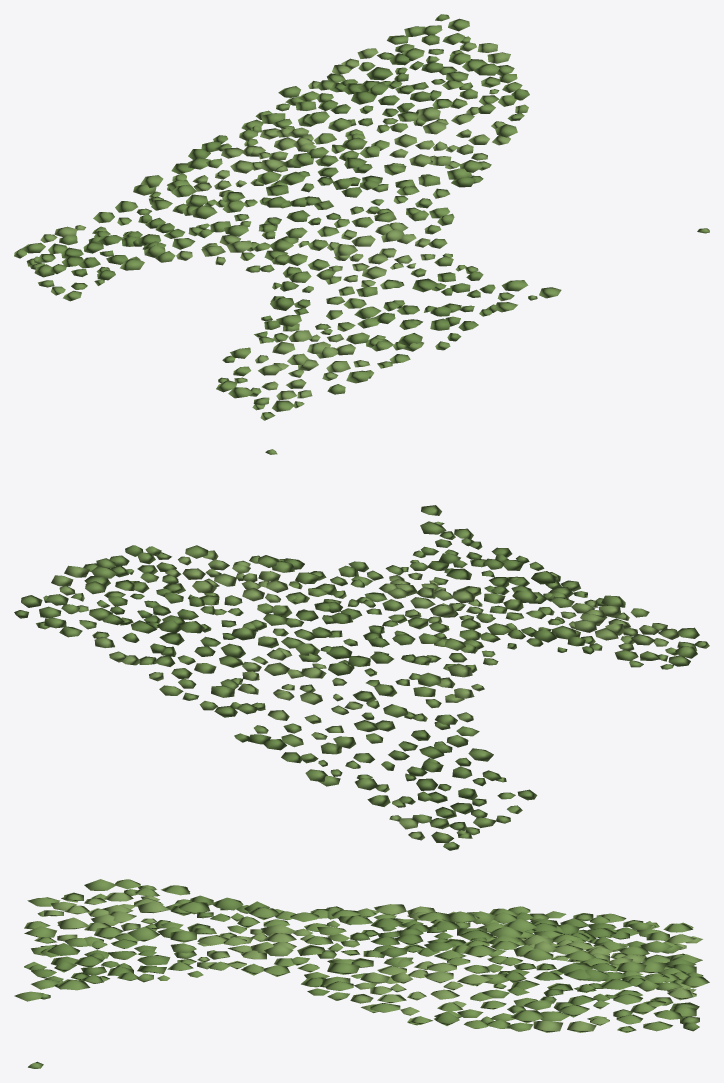
The model's file is canopy-1-5--4.glb.
3 views of the same model, one above another, from view 1: azimuth 30°, elevation 25°; view 2: azimuth 150°, elevation 25°; view 3: azimuth 270°, elevation 25° (orthographic). The views are drawn at different scales.
Size of the model in its own units: 510 by 148 by 522.
1 material, 1 textured.
